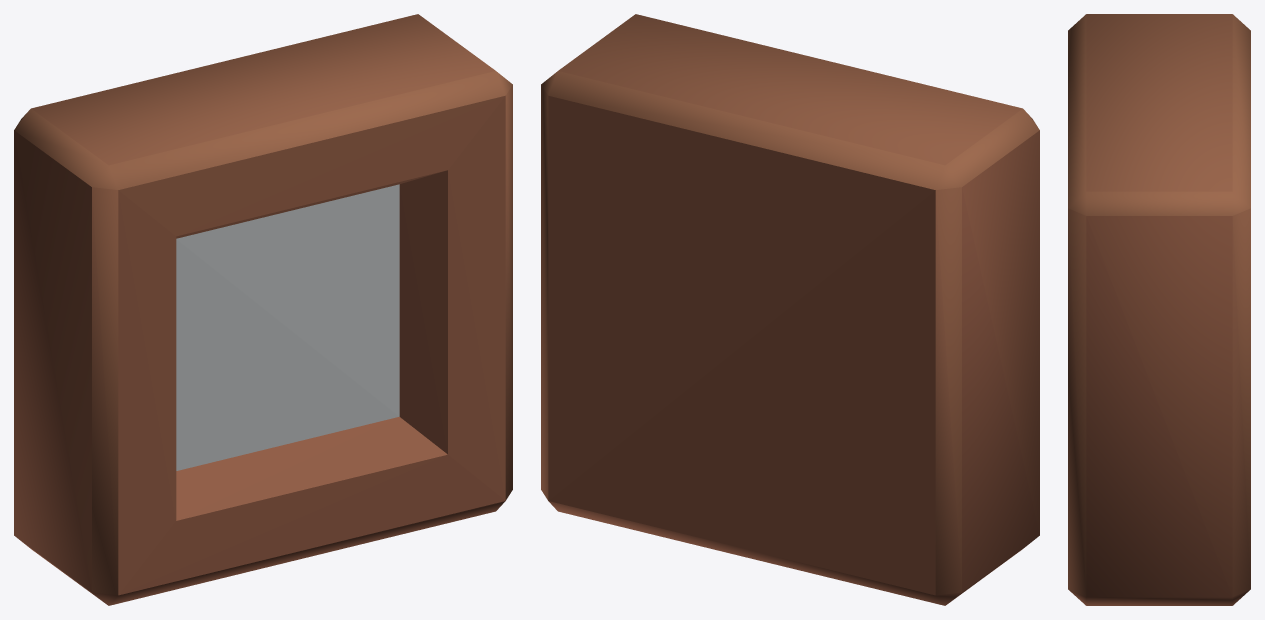
The model's file is kk_furniture_pictureframe_small_C.glb.
3 views of the same model, side by side, from view 1: azimuth 30°, elevation 25°; view 2: azimuth 150°, elevation 25°; view 3: azimuth 270°, elevation 25° (orthographic). The views are drawn at different scales.
Visible parts, largest first — view 1: kk_furniture_pictureframe_small_C; view 2: kk_furniture_pictureframe_small_C; view 3: kk_furniture_pictureframe_small_C.
Boxes of the visible parts, x1,y1,x2,y2 form: kk_furniture_pictureframe_small_C: (14,14,512,605); kk_furniture_pictureframe_small_C: (541,14,1039,605); kk_furniture_pictureframe_small_C: (1068,14,1250,605).
Bounding box in the file's own units: 0.5 × 0.5 × 0.2.
